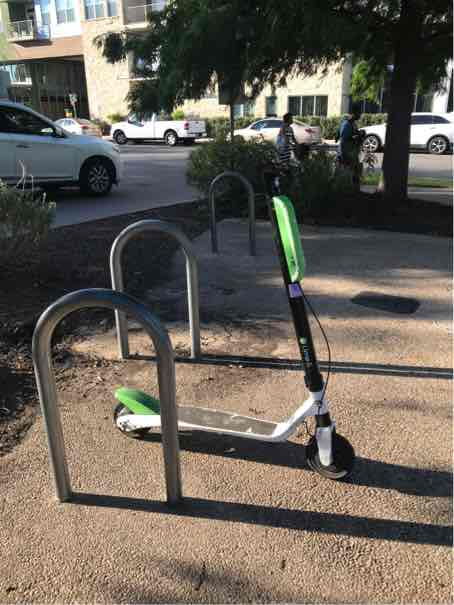scooter: (95, 138, 351, 492)
